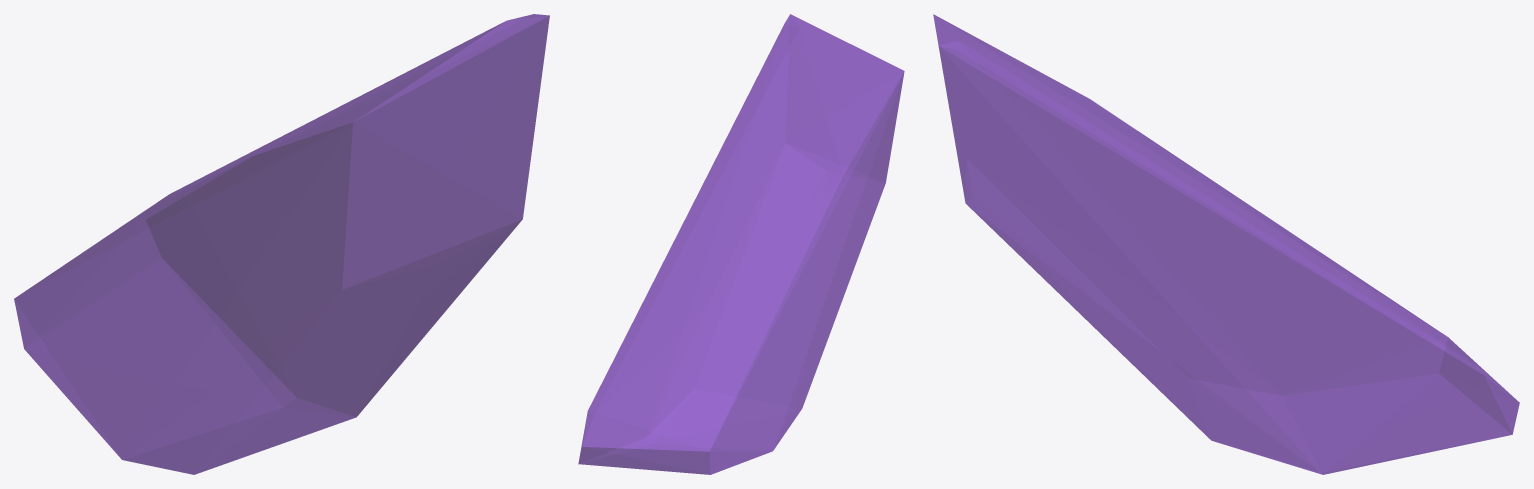
The picture shows the model from 3 angles, left to right: view 1: azimuth 30°, elevation 25°; view 2: azimuth 150°, elevation 25°; view 3: azimuth 270°, elevation 25°; orthographic projection. The views are drawn at different scales.
Visible parts, largest first — view 1: Shape_IndexedFaceSet.022_Shape_IndexedFaceSet.17998; view 2: Shape_IndexedFaceSet.022_Shape_IndexedFaceSet.17998; view 3: Shape_IndexedFaceSet.022_Shape_IndexedFaceSet.17998.
Part boxes in pixels (x1,y1,x2,y2): Shape_IndexedFaceSet.022_Shape_IndexedFaceSet.17998: (14, 14, 549, 474); Shape_IndexedFaceSet.022_Shape_IndexedFaceSet.17998: (578, 14, 904, 474); Shape_IndexedFaceSet.022_Shape_IndexedFaceSet.17998: (933, 14, 1519, 474).
Size of the model in its own units: 0.1113 by 0.3038 by 0.3732.
